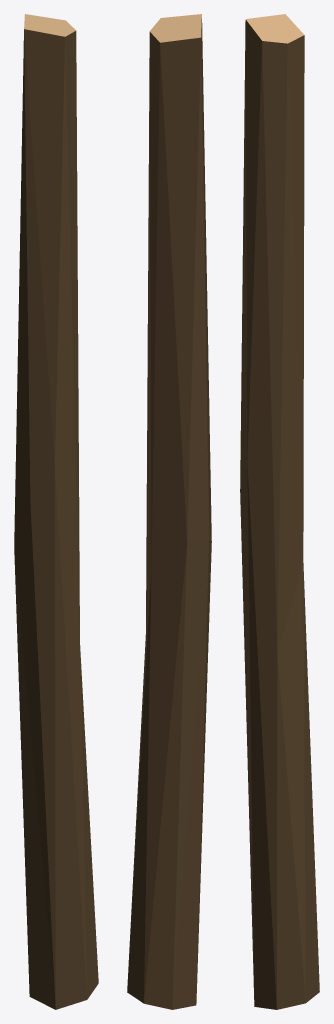
File: log_02.fbx
3 renders of one model, left to right at view 1: azimuth 30°, elevation 25°; view 2: azimuth 210°, elevation 25°; view 3: azimuth 330°, elevation 25°, orthographic.
Visible parts, largest first — view 1: log_02; view 2: log_02; view 3: log_02.
Boxes of the visible parts, <box> form: log_02: <box>14,14,98,1009</box>; log_02: <box>127,14,211,1009</box>; log_02: <box>240,14,319,1009</box>.
Size of the model in its own units: 4.34 by 57.78 by 3.8.
